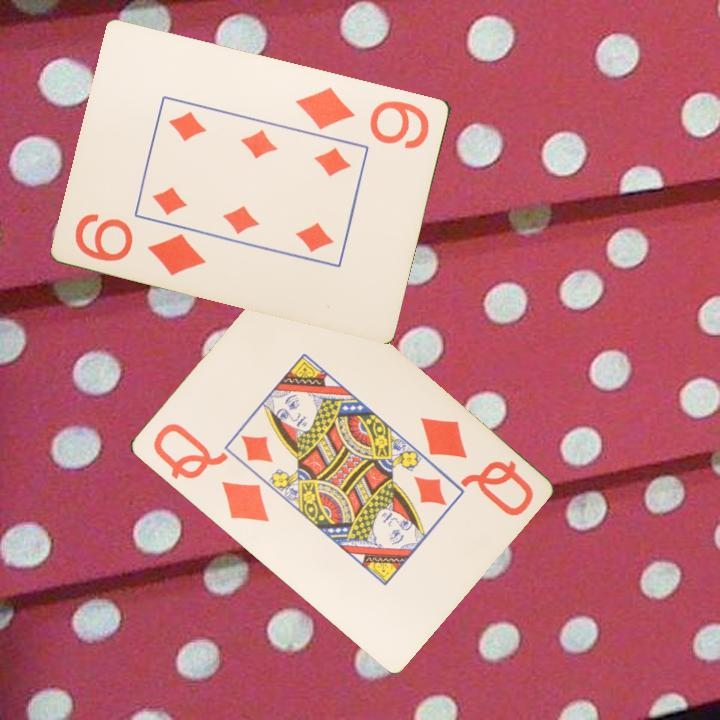6d: (292, 83, 433, 152), (71, 209, 209, 279)
Qd: (148, 419, 272, 525), (415, 413, 536, 520)
